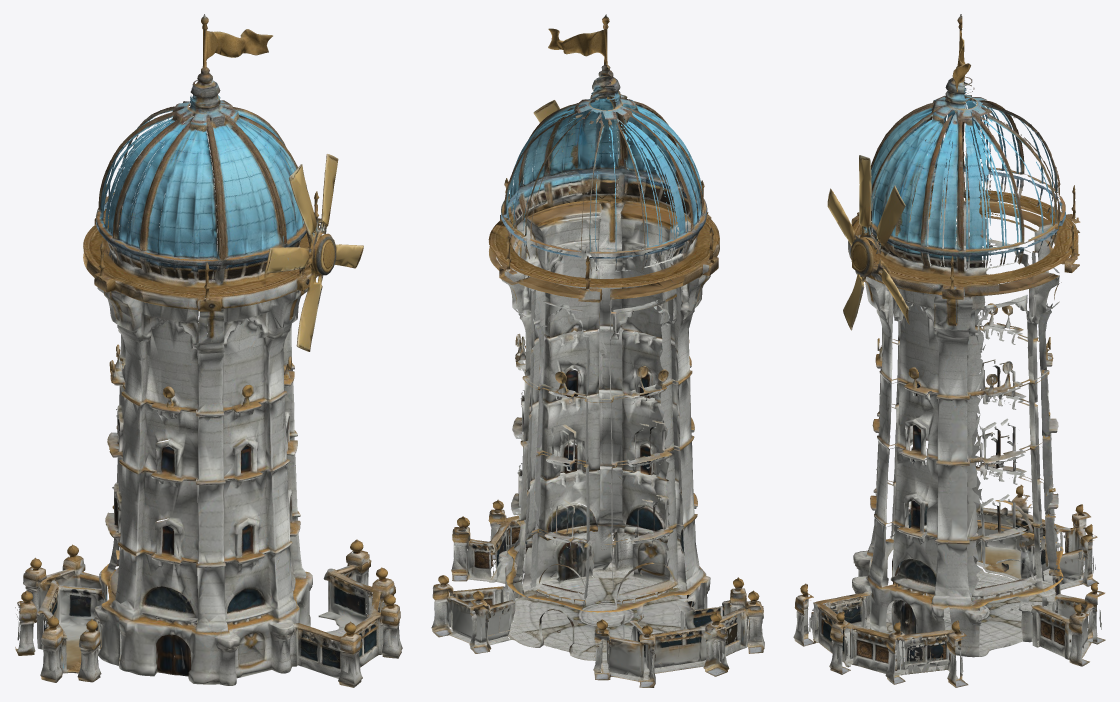
Rendered from sky_tower.glb.
3 renders of one model, left to right at view 1: azimuth 30°, elevation 25°; view 2: azimuth 150°, elevation 25°; view 3: azimuth 270°, elevation 25°, orthographic. The views are drawn at different scales.
Size of the model in its own units: 1.05 by 1.9 by 0.8995.
Materials: 1 (1 with a texture image).
